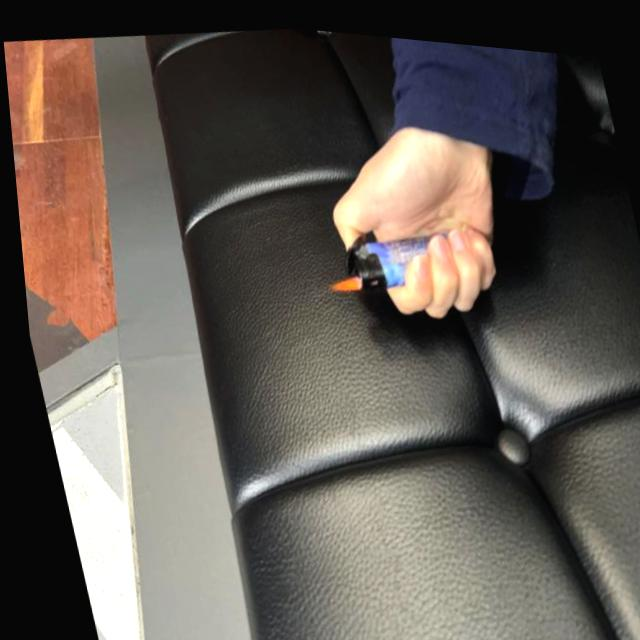Fire: (323, 265, 361, 289)
